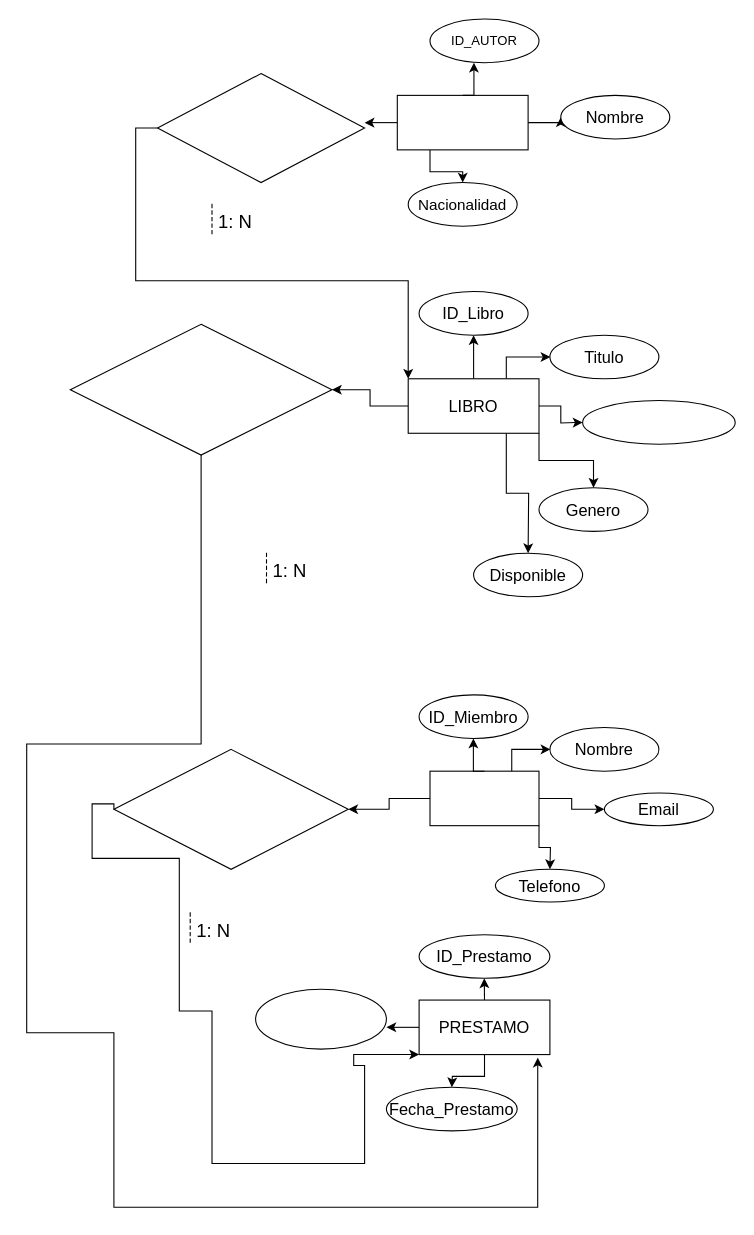
The diagram is 754 pixels wide and 1235 high, and some of its shapes have lost their labels. Here are the shapes that lost their labels. From the top down, the centre of each, then its label:
At [260,127]: "Autor — Escribe — Libro".
At [462,122]: "AUTOR".
At [200,389]: "Libro — Es parte de — Préstamo".
At [658,421]: "Año_Publicacion".
At [230,808]: "Miembro — Realiza — Préstamo".
At [484,798]: "MIEMBRO".
At [320,1018]: "Fecha_Devolucion".
